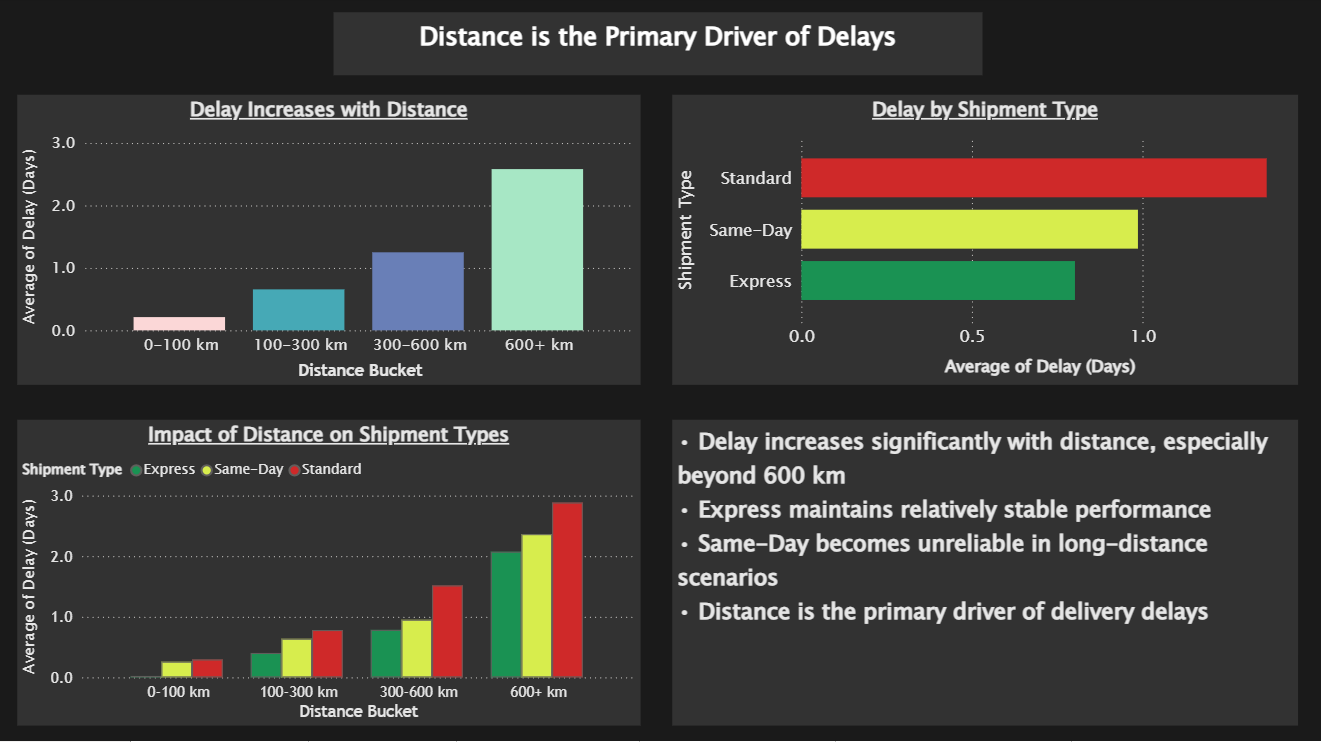

The page's visual inventory and layout, read from the dashboard file:
{"tool":"powerbi","page":{"name":"Delay Analysis","canvas":[1280,720],"ordinal":1},"visuals":[{"type":"clusteredColumnChart","title":"Delay Increases with Distance","fields":{"Y":["Avg(logistics_analysis_results.delay_days)"],"Category":["logistics_analysis_results.distance_bucket"]},"box":[20,95,601.2,280],"z":0},{"type":"clusteredBarChart","title":"Delay by Shipment Type","fields":{"Category":["logistics_analysis_results.shipment_type"],"Y":["Avg(logistics_analysis_results.delay_days)"]},"box":[652.5,95,603.8,280],"z":1000},{"type":"clusteredColumnChart","title":"Impact of Distance on Shipment Types","fields":{"Category":["logistics_analysis_results.distance_bucket"],"Y":["Avg(logistics_analysis_results.delay_days)"],"Series":["logistics_analysis_results.shipment_type"]},"box":[20,408.8,601.2,295],"z":2000},{"type":"textbox","box":[652.5,408.8,603.8,295],"z":3000},{"type":"textbox","box":[325.3,15.9,626.1,61.1],"z":4000}]}

Visuals, with their boxes in screenshot pixels (x1, y1, x2, y2), scaled from the page's 1280x720 canvas onto the 1321x742 screenshot:
"Delay Increases with Distance" clusteredColumnChart: (21, 98, 641, 386)
"Delay by Shipment Type" clusteredBarChart: (673, 98, 1297, 386)
"Impact of Distance on Shipment Types" clusteredColumnChart: (21, 421, 641, 725)
textbox: (673, 421, 1297, 725)
textbox: (336, 16, 982, 79)
